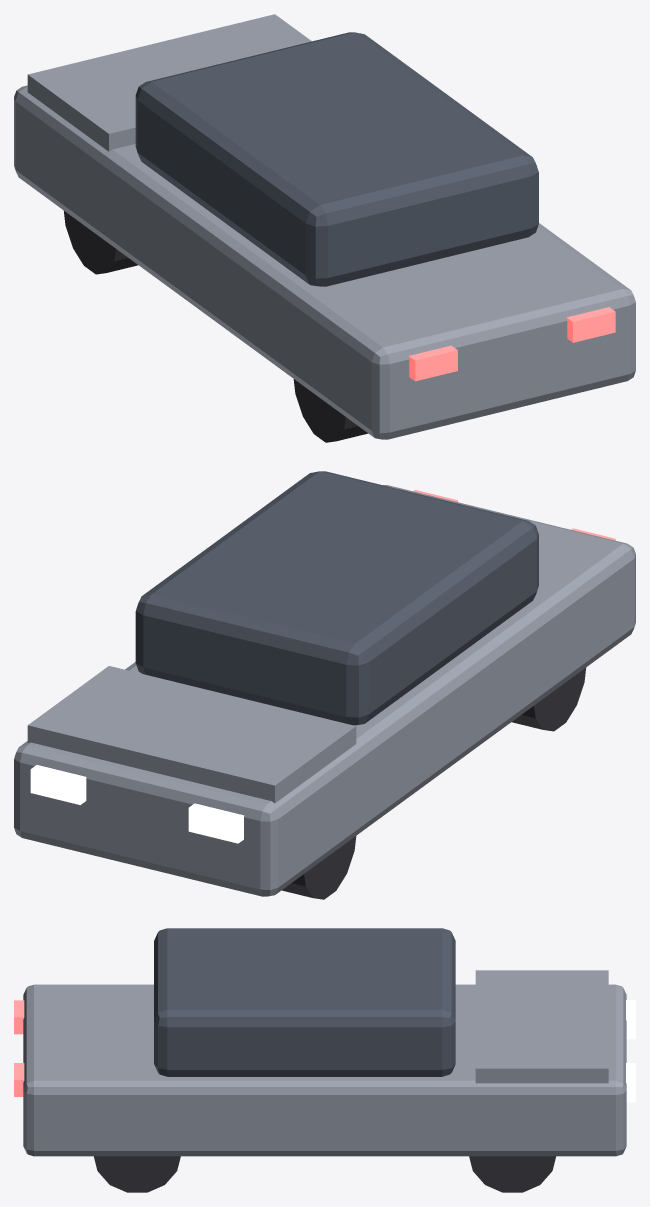
File: cl-sedan.glb
3 renders of one model, top to bottom at view 1: azimuth 30°, elevation 25°; view 2: azimuth 150°, elevation 25°; view 3: azimuth 270°, elevation 25°, orthographic. The views are drawn at different scales.
Visible parts, largest first — view 1: bt-cl-sedan_lower, bt-cl-sedan_cabin, bt-cl-sedan_hood, bt-cl-sedan_wh-0.7250000000000001_-1.4, bt-cl-sedan_wh-0.7250000000000001_1.4, bt-cl-sedan_tail1, bt-cl-sedan_tail-1; view 2: bt-cl-sedan_cabin, bt-cl-sedan_lower, bt-cl-sedan_hood, bt-cl-sedan_wh-0.7250000000000001_1.4, bt-cl-sedan_wh-0.7250000000000001_-1.4, bt-cl-sedan_head1, bt-cl-sedan_head-1; view 3: bt-cl-sedan_lower, bt-cl-sedan_cabin, bt-cl-sedan_hood, bt-cl-sedan_wh0.7250000000000001_-1.4, bt-cl-sedan_wh0.7250000000000001_1.4, bt-cl-sedan_head-1, bt-cl-sedan_head1.
Boxes of the visible parts, left/top/right/bottom form: bt-cl-sedan_lower: left=14, top=85, right=635, bottom=439; bt-cl-sedan_cabin: left=135, top=32, right=538, bottom=286; bt-cl-sedan_hood: left=27, top=14, right=311, bottom=151; bt-cl-sedan_wh-0.7250000000000001_-1.4: left=64, top=211, right=137, bottom=274; bt-cl-sedan_wh-0.7250000000000001_1.4: left=293, top=379, right=367, bottom=442; bt-cl-sedan_tail1: left=566, top=307, right=615, bottom=342; bt-cl-sedan_tail-1: left=409, top=345, right=457, bottom=381; bt-cl-sedan_cabin: left=135, top=471, right=538, bottom=725; bt-cl-sedan_lower: left=14, top=485, right=635, bottom=896; bt-cl-sedan_hood: left=27, top=666, right=356, bottom=803; bt-cl-sedan_wh-0.7250000000000001_1.4: left=511, top=667, right=586, bottom=731; bt-cl-sedan_wh-0.7250000000000001_-1.4: left=282, top=836, right=356, bottom=899; bt-cl-sedan_head1: left=30, top=765, right=86, bottom=804; bt-cl-sedan_head-1: left=188, top=803, right=244, bottom=843; bt-cl-sedan_lower: left=23, top=984, right=626, bottom=1156; bt-cl-sedan_cabin: left=154, top=928, right=455, bottom=1076; bt-cl-sedan_hood: left=475, top=970, right=608, bottom=1083; bt-cl-sedan_wh0.7250000000000001_-1.4: left=469, top=1156, right=555, bottom=1192; bt-cl-sedan_wh0.7250000000000001_1.4: left=94, top=1156, right=180, bottom=1192; bt-cl-sedan_head-1: left=626, top=1000, right=635, bottom=1039; bt-cl-sedan_head1: left=626, top=1063, right=635, bottom=1102.
Size of the model in its own units: 1.85 by 1.45 by 4.64.
